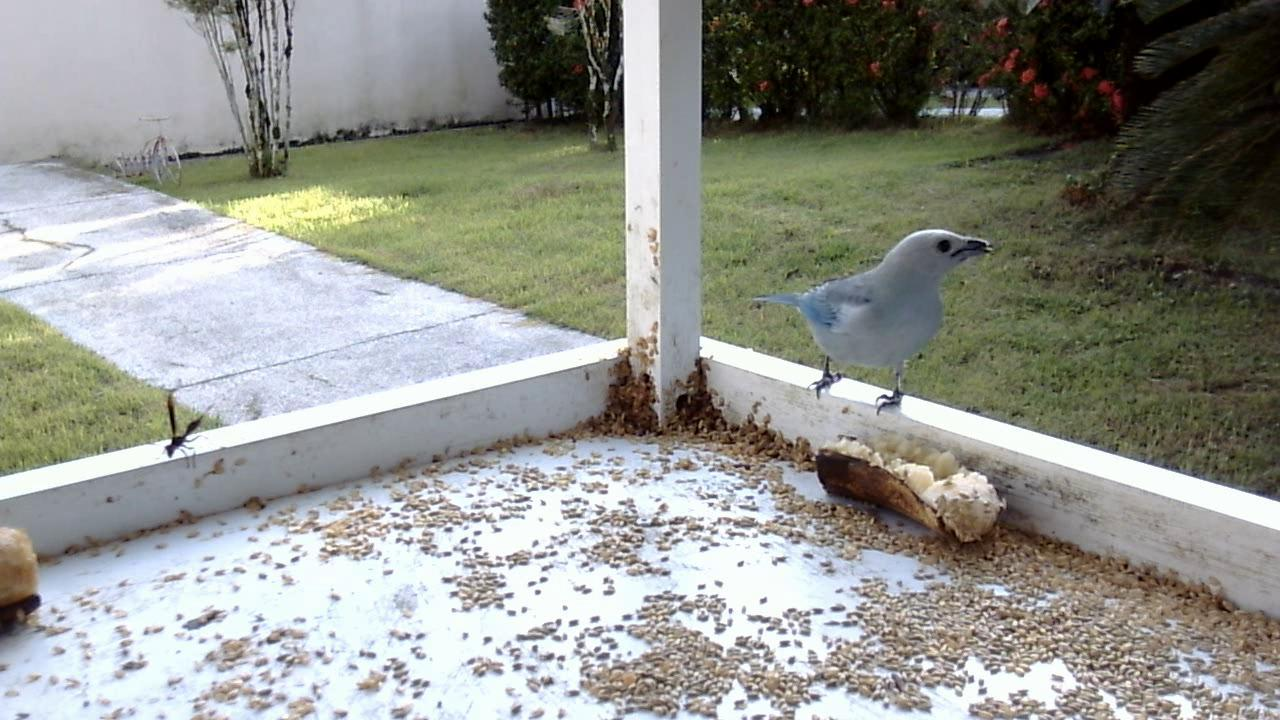sanhaco_da_amazonia: (747, 225, 993, 422)
